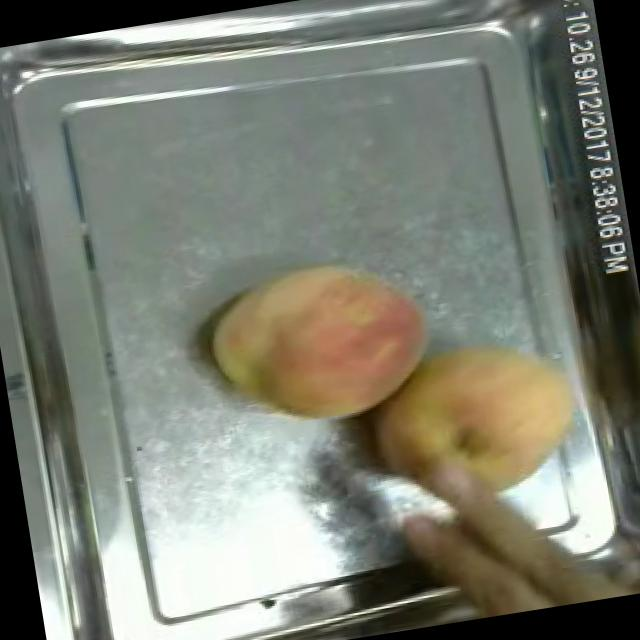Fruit: (350, 316, 606, 534), (193, 238, 447, 446)
